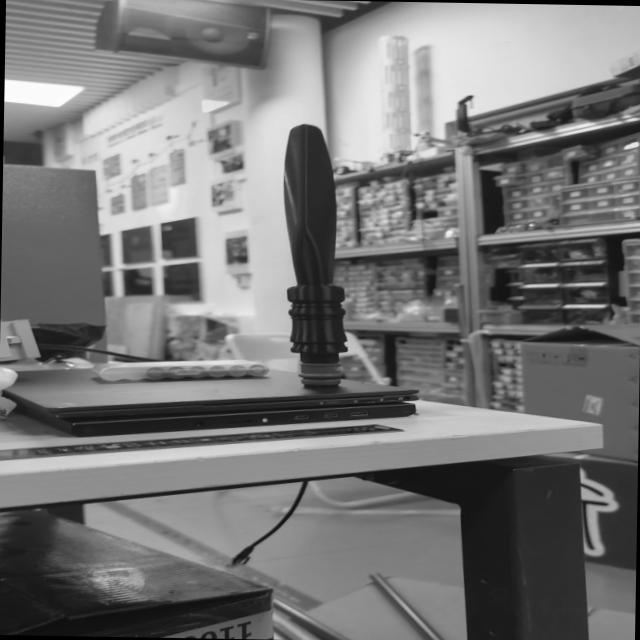base: (289, 358, 351, 396)
